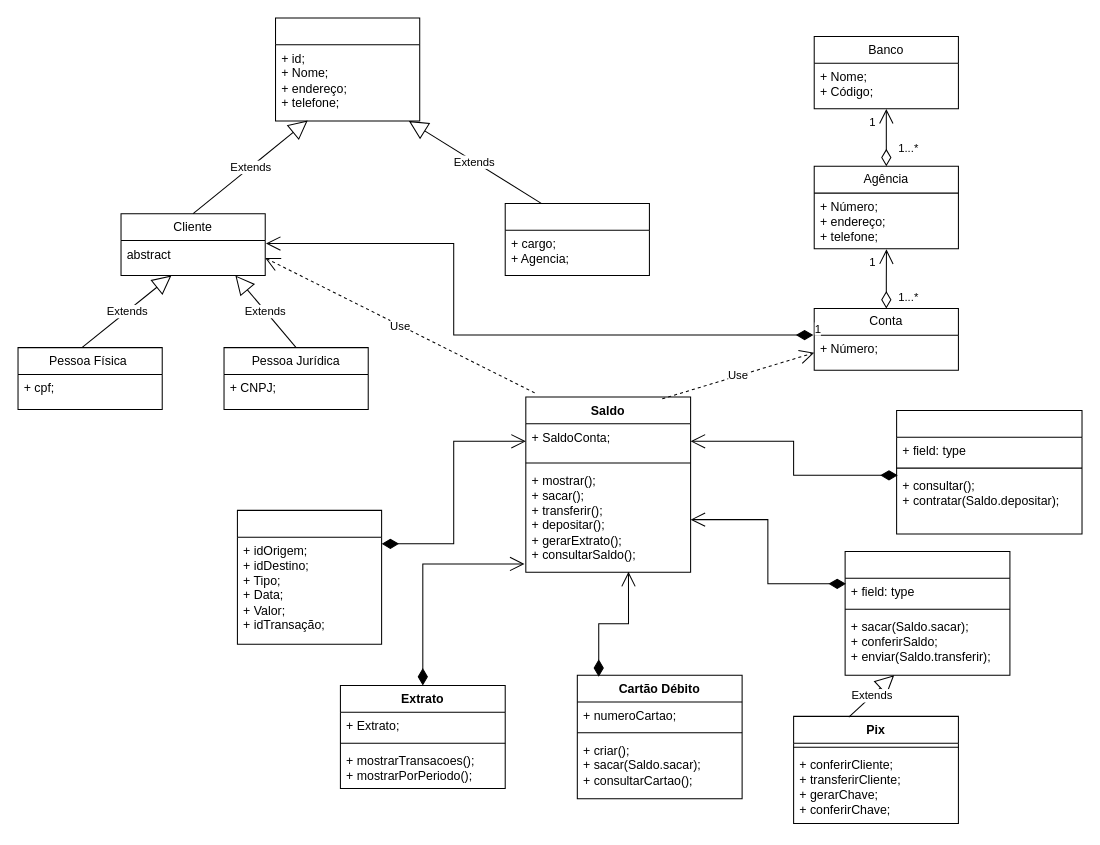
Image size: 1100x845. Some labels were removed from this diagram. Here are the shapes that lost their labels. From the top down, the box of each, then its label:
(274, 17, 420, 121): Pessoa
(504, 202, 649, 276): Funcionário
(896, 409, 1082, 534): Emprestimo
(236, 509, 382, 644): Transações
(844, 551, 1010, 675): Pagamentos
